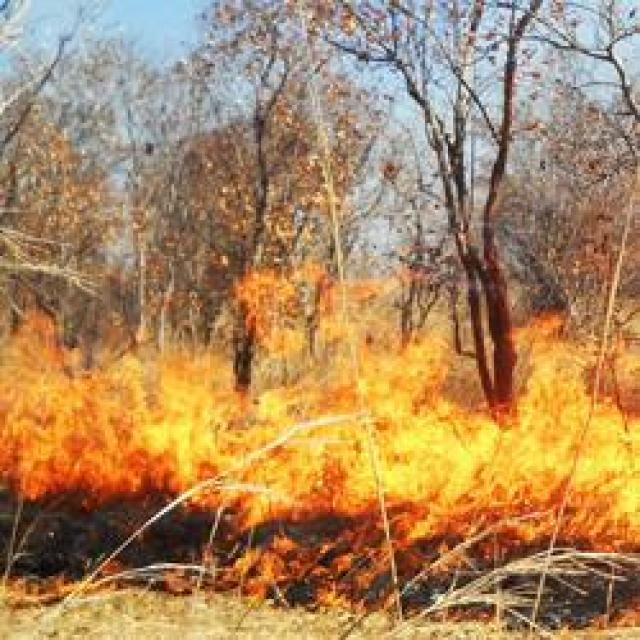Fire: (20, 348, 444, 496), (468, 416, 638, 514)
